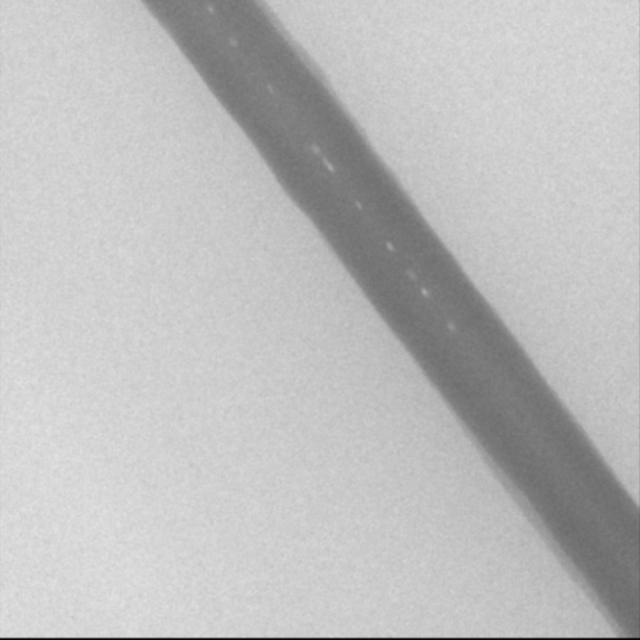air hole: (323, 157, 335, 173), (353, 198, 363, 211), (265, 83, 275, 96), (446, 320, 455, 333), (420, 287, 430, 298), (229, 37, 238, 49), (385, 239, 393, 252), (312, 144, 320, 156)
